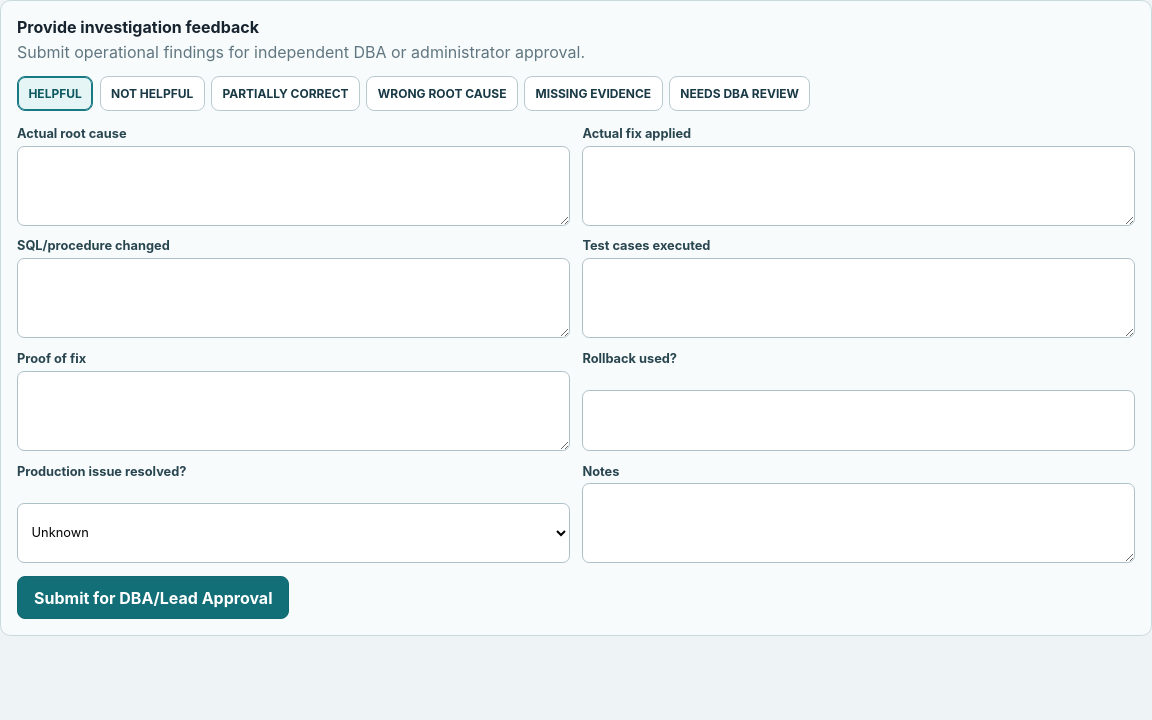
it: FeedbackPanel › preserves investigation and current payload and reports successful submission
Click the button "WRONG ROOT CAUSE": click(442, 94) [366,76,518,111]
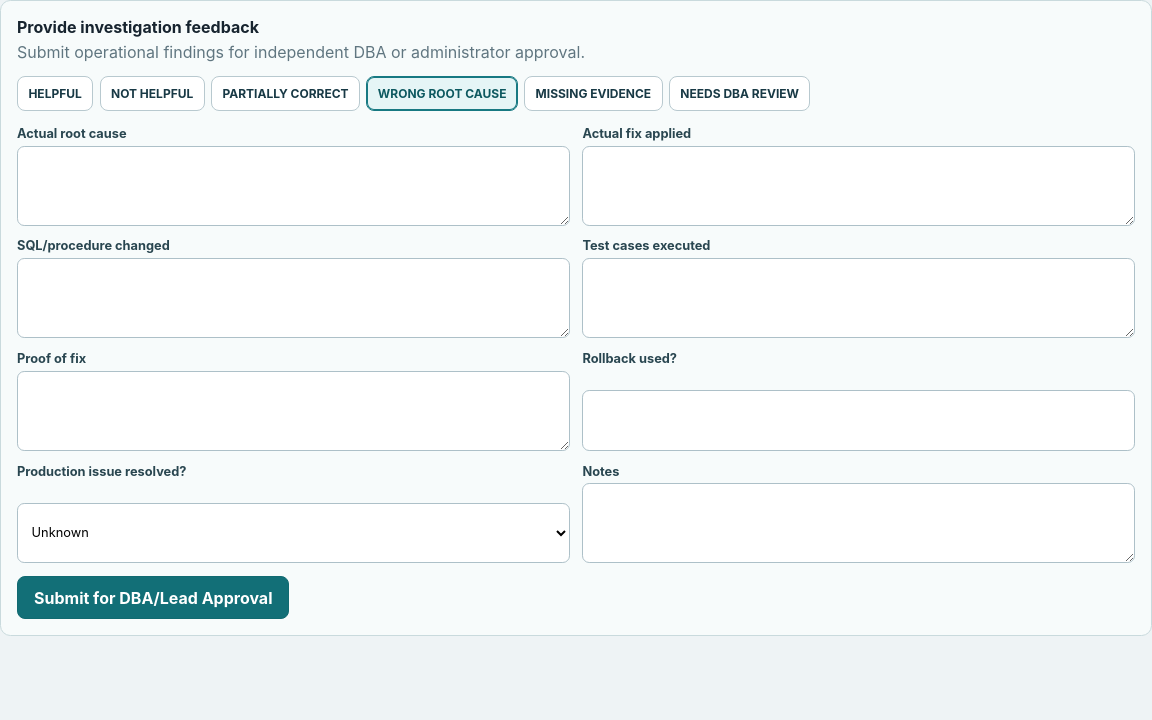
In the text box labelled "Actual root cause": (293, 186) [17,146,570,226], type " Retry "
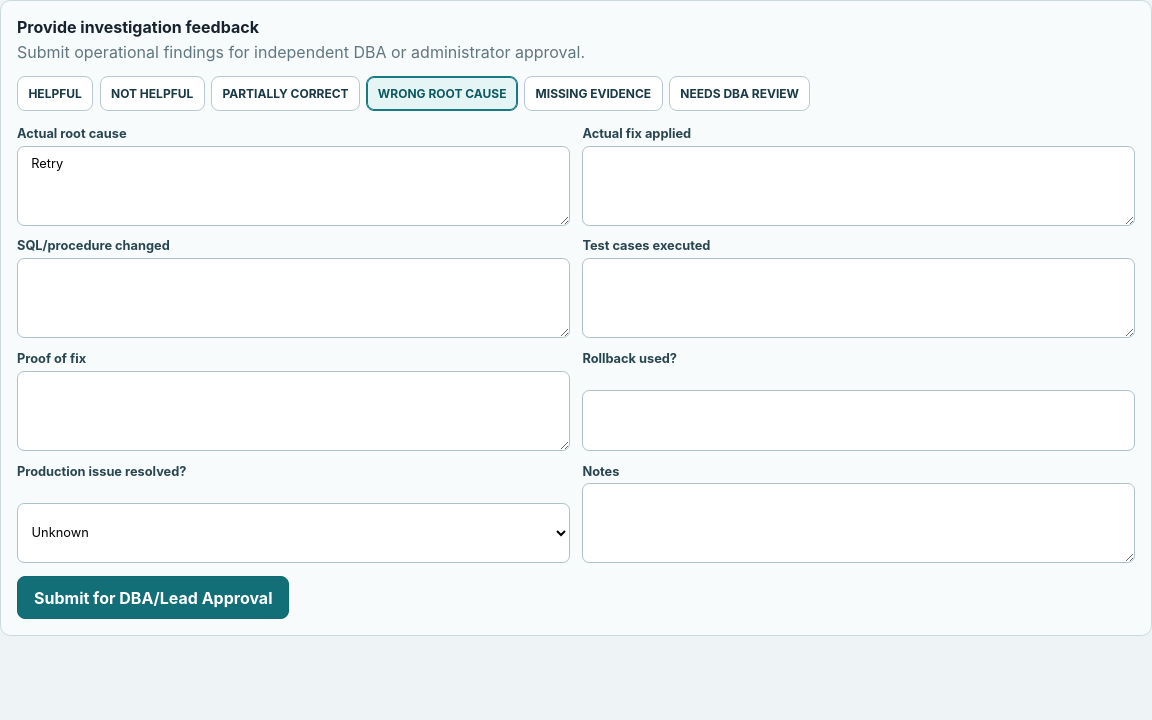
Click the button "Submit for DBA/Lead Approval": click(153, 598) [17,576,290,619]
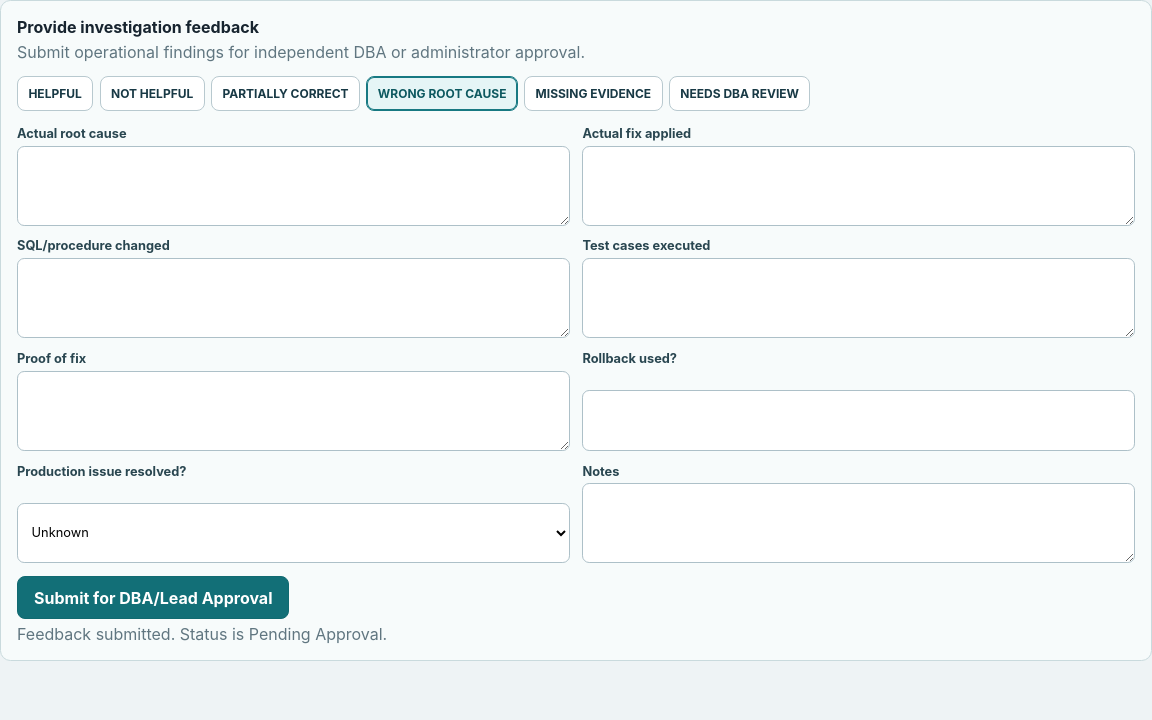
Expected: the message shows "Pending Approval", [17,624,387,644]
